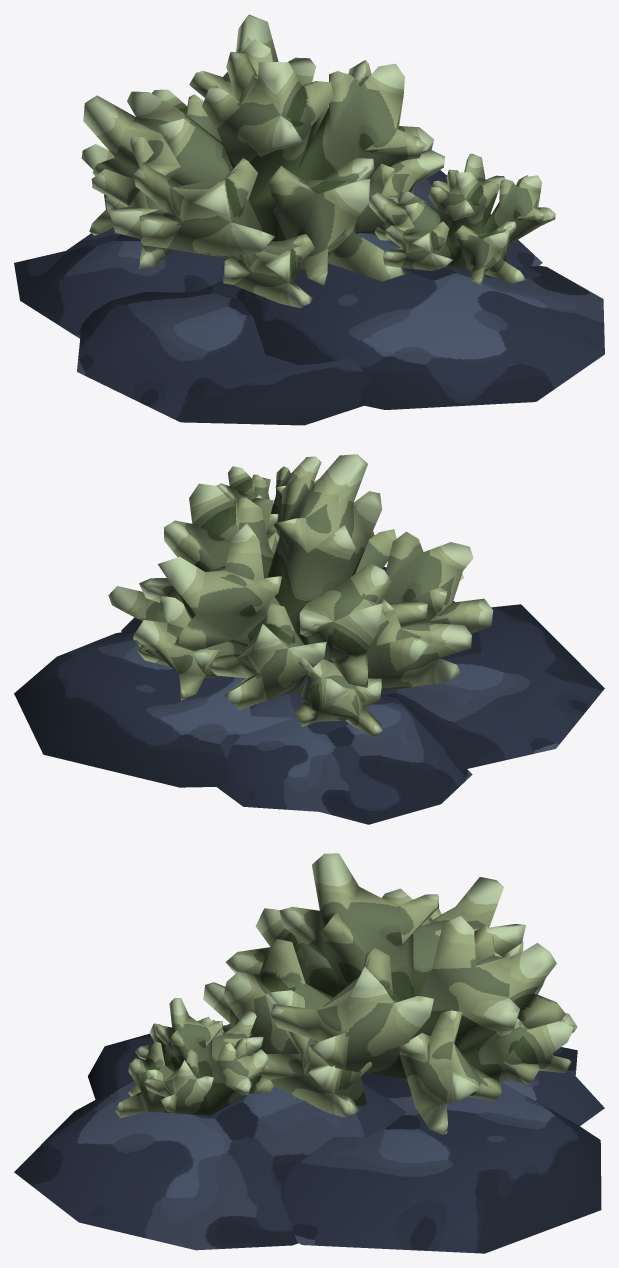
The model's file is Clubbed Finger Coral 4_preview_3DS_simplified.glb.
3 renders of one model, top to bottom at view 1: azimuth 30°, elevation 25°; view 2: azimuth 150°, elevation 25°; view 3: azimuth 270°, elevation 25°, orthographic. The views are drawn at different scales.
Parts seen in each view (by area): view 1: Marine Park Empire model; view 2: Marine Park Empire model; view 3: Marine Park Empire model.
Boxes of the visible parts, x1=… form: Marine Park Empire model: x1=14, y1=14, x2=604, y2=425; Marine Park Empire model: x1=14, y1=454, x2=604, y2=824; Marine Park Empire model: x1=14, y1=853, x2=604, y2=1253.
Size of the model in its own units: 127 by 68.9 by 134.
2 materials, 2 textured.
